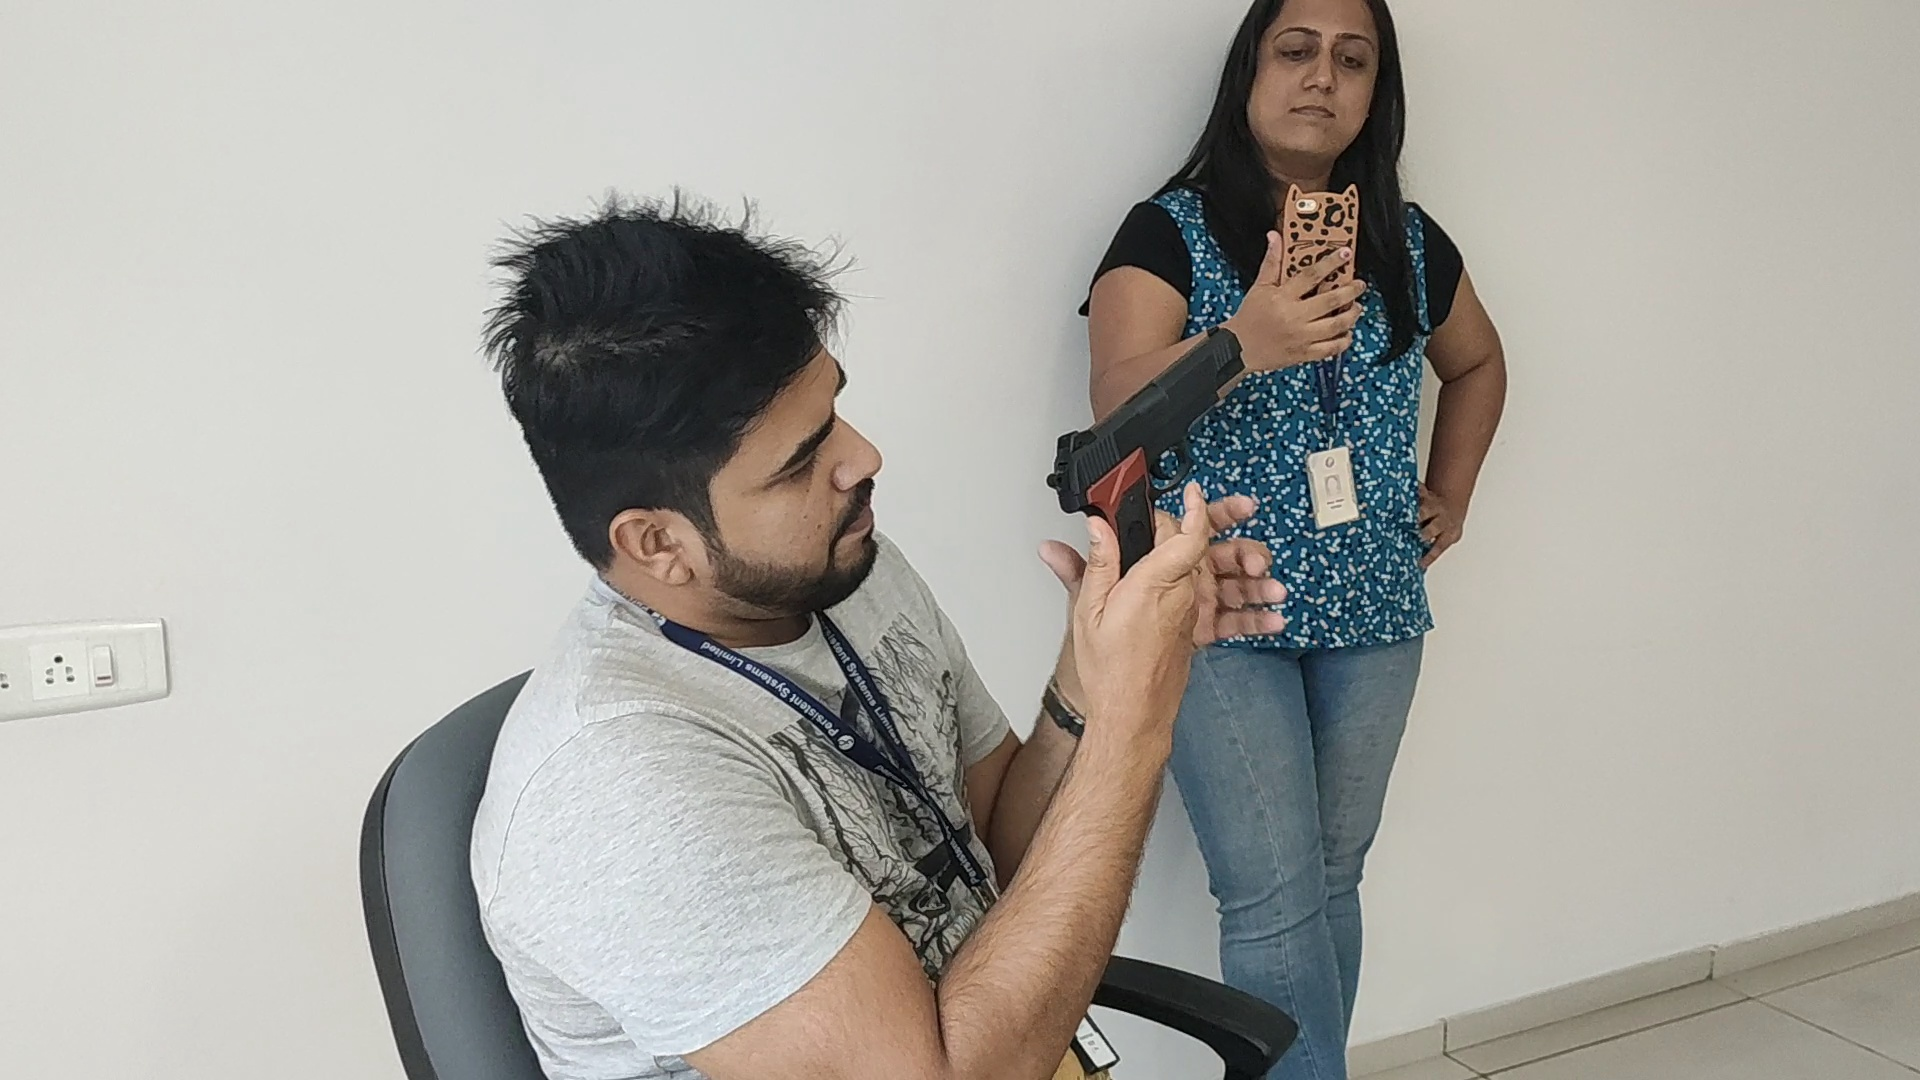gun: (1044, 324, 1245, 480)
